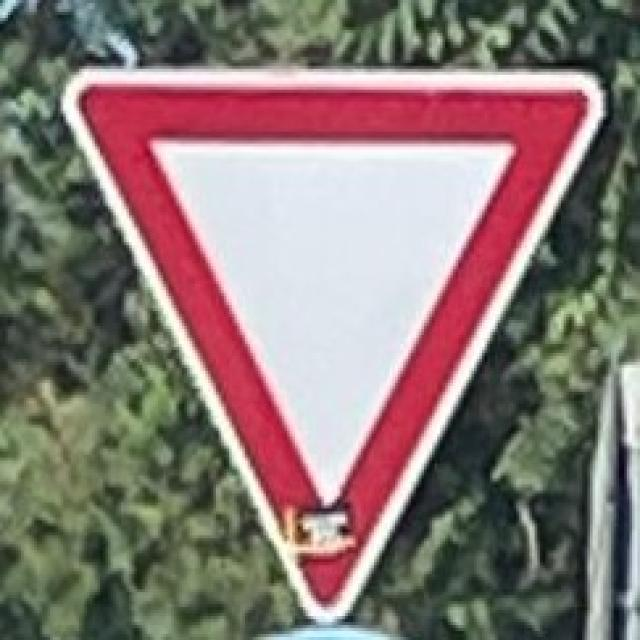prio_give_way: (60, 61, 609, 624)
